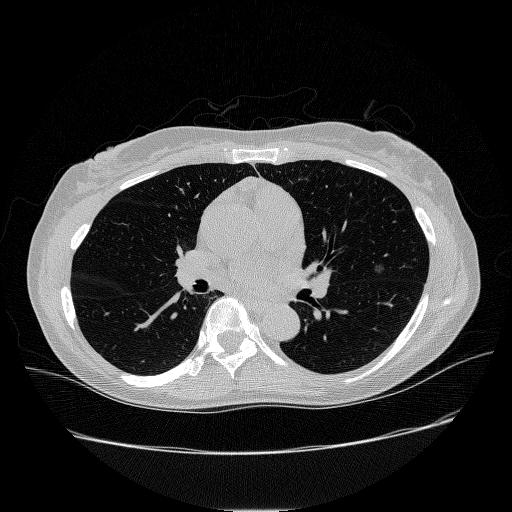nodule: (372, 262, 386, 276)
